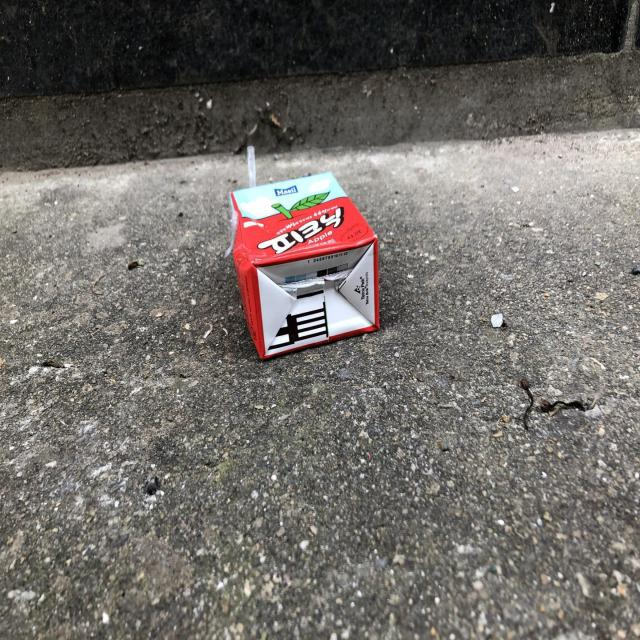paperpack: (230, 172, 379, 358)
